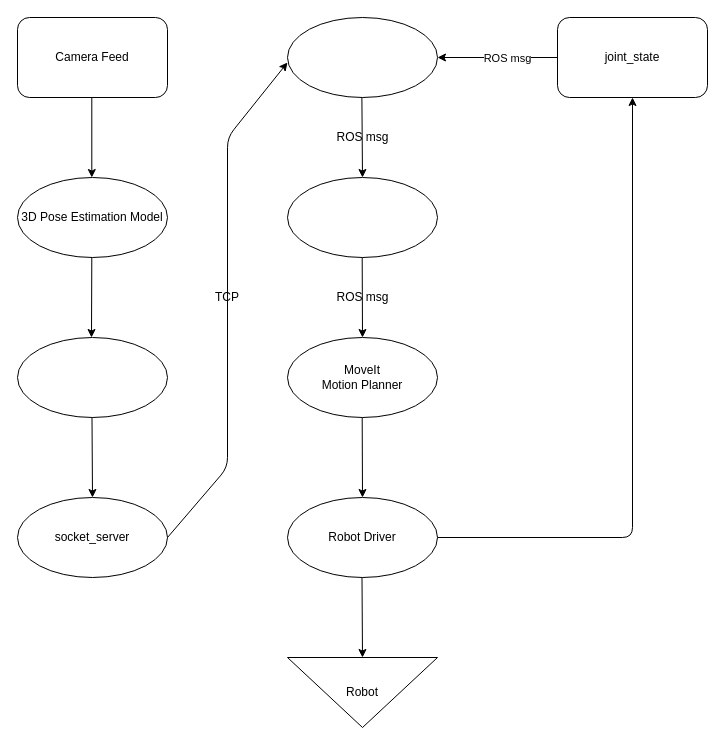
The diagram is 725 pixels wide and 745 high, and some of its shapes have lost their labels. Each missing label, with the box of its shape:
custom_joint_mover: (286, 16, 438, 98)
joint_angle_calculator: (16, 336, 168, 418)
joint_trajectory_action: (286, 176, 438, 258)
